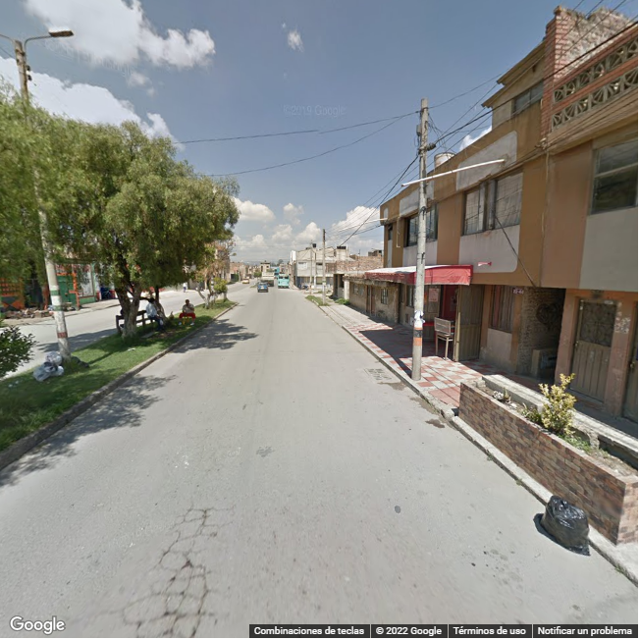D00: (197, 501, 211, 534), (172, 516, 179, 535)
D20: (121, 550, 203, 634)
